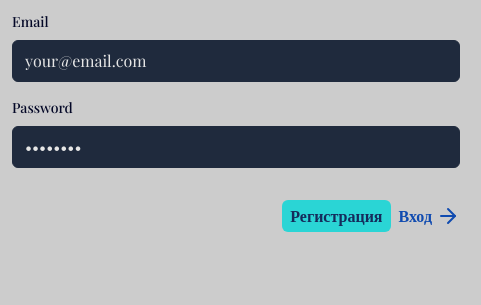
Test case: SignupForm › shows validation errors for invalid email format
Note: Вводим невалидный email (без @)
Type "testtestcom" into the field labelled "Email" at (236, 61), box [12, 40, 460, 82]
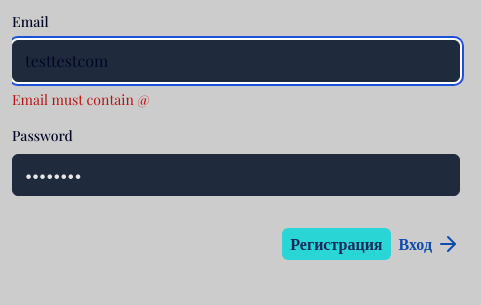
Type "test123" into the password field labelled "Password" at (236, 175), box [12, 154, 460, 196]
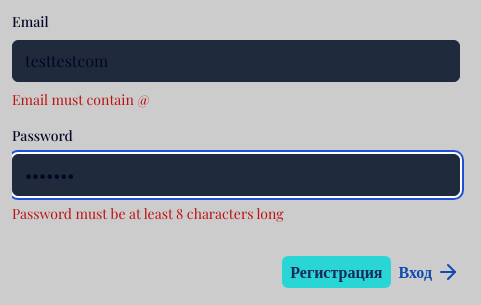
Result: the text "Email must contain @" is shown at [12, 90, 150, 109]
Result: the text "Password must be at least 8 characters long" is shown at [12, 204, 284, 223]
